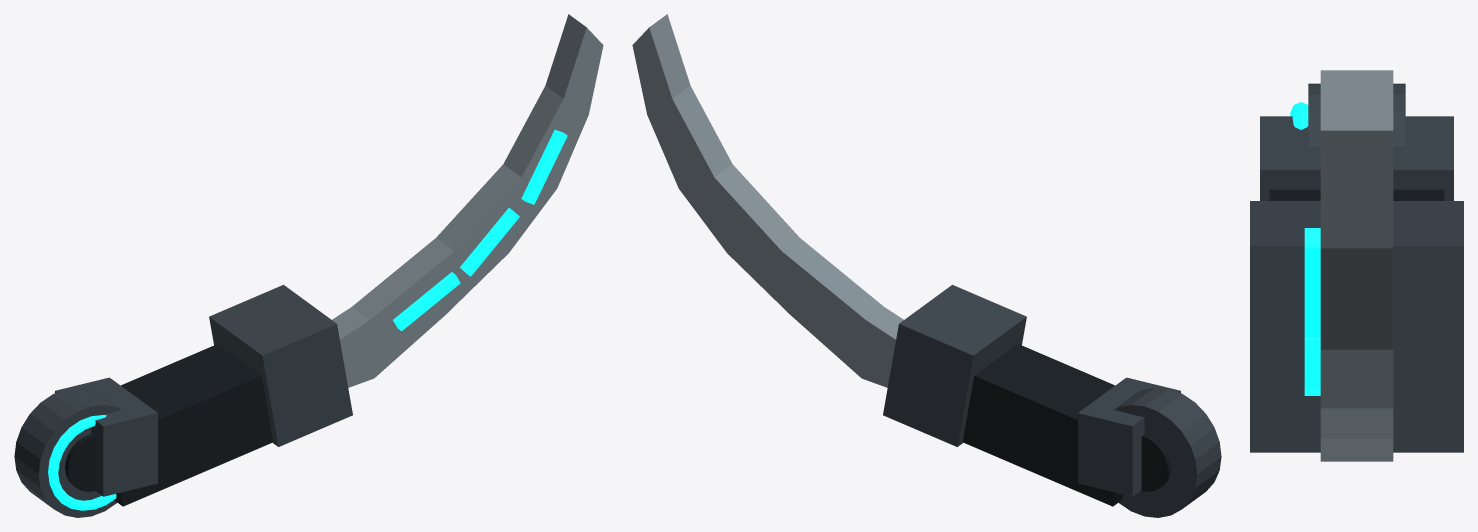
The model's file is karambit.glb.
The picture shows the model from 3 angles, left to right: view 1: azimuth 30°, elevation 25°; view 2: azimuth 150°, elevation 25°; view 3: azimuth 270°, elevation 25°; orthographic projection. The views are drawn at different scales.
Parts seen in each view (by area): view 1: Hooked karambit blade, Handle bolster, Karambit handle, Finger ring, Pommel cap, Torus, Ring opening, Blade spine light.002, Blade spine light, Blade spine light.001; view 2: Hooked karambit blade, Handle bolster, Karambit handle, Finger ring, Pommel cap, Ring opening; view 3: Handle bolster, Hooked karambit blade, Pommel cap, Blade spine light.002, Finger ring, Karambit handle, Blade spine light.001, Torus.
Part boxes in pixels (x1,y1,x2,y2): Hooked karambit blade: (332, 14, 603, 387); Handle bolster: (209, 285, 352, 446); Karambit handle: (114, 344, 273, 506); Finger ring: (14, 387, 121, 517); Pommel cap: (55, 377, 157, 496); Torus: (48, 415, 116, 510); Ring opening: (65, 434, 94, 491); Blade spine light.002: (521, 129, 567, 204); Blade spine light: (393, 272, 460, 331); Blade spine light.001: (460, 208, 519, 276); Hooked karambit blade: (632, 14, 903, 387); Handle bolster: (883, 285, 1026, 446); Karambit handle: (962, 344, 1123, 506); Finger ring: (1114, 387, 1221, 517); Pommel cap: (1078, 377, 1180, 496); Ring opening: (1141, 434, 1170, 491); Handle bolster: (1250, 201, 1463, 452); Hooked karambit blade: (1320, 70, 1393, 461); Pommel cap: (1260, 116, 1453, 200); Blade spine light.002: (1304, 228, 1320, 337); Finger ring: (1308, 83, 1405, 146); Karambit handle: (1269, 189, 1444, 200); Blade spine light.001: (1304, 337, 1320, 387); Torus: (1290, 102, 1308, 129).
Bounding box in the file's own units: 2.7 × 1.66 × 0.44.
